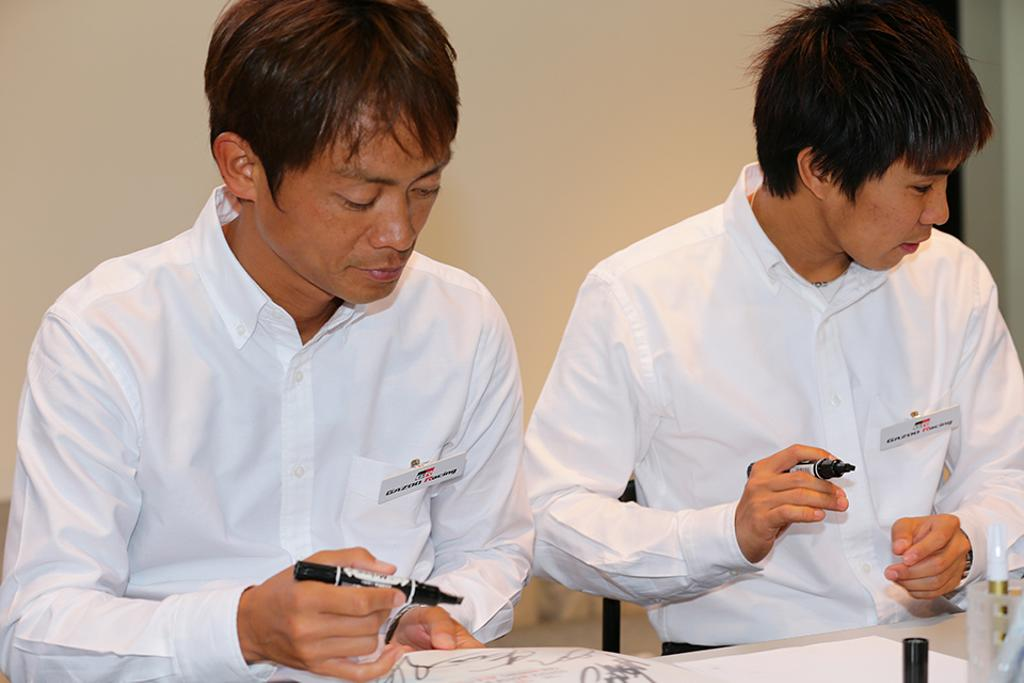face: (286, 60, 434, 306), (826, 106, 950, 268)
